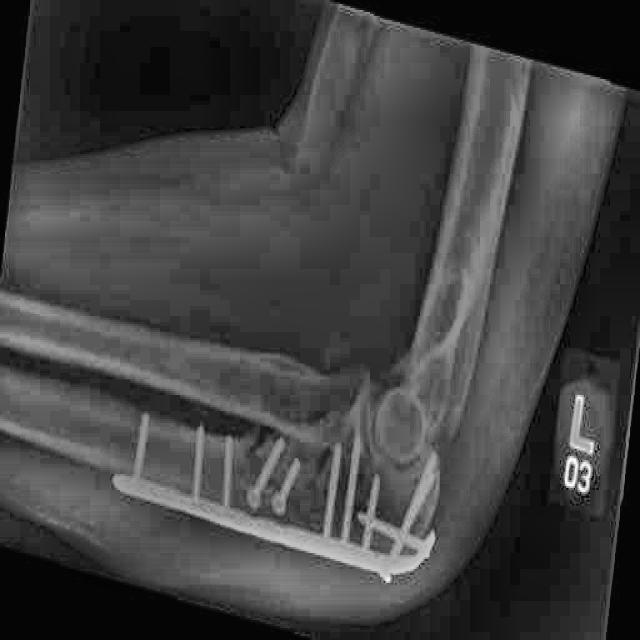elbow positive: (231, 424, 281, 485)
